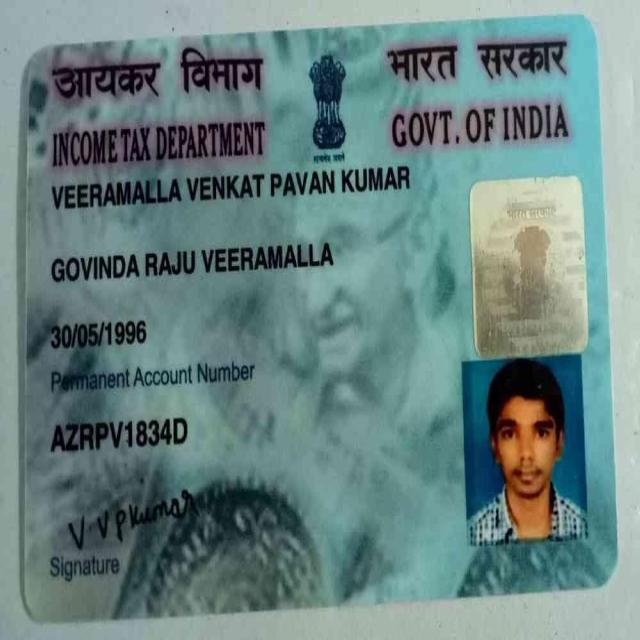pan_card: (27, 18, 613, 613)
